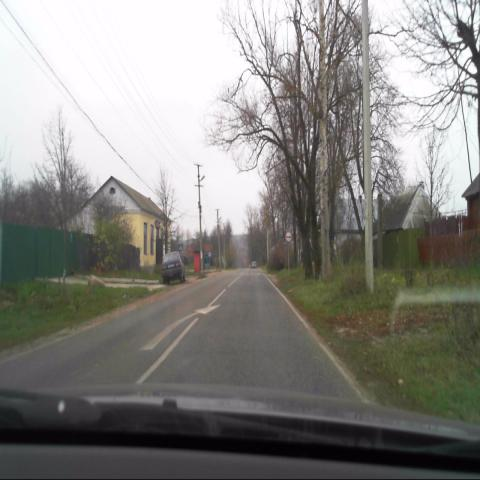3_20: (284, 231, 292, 243)
